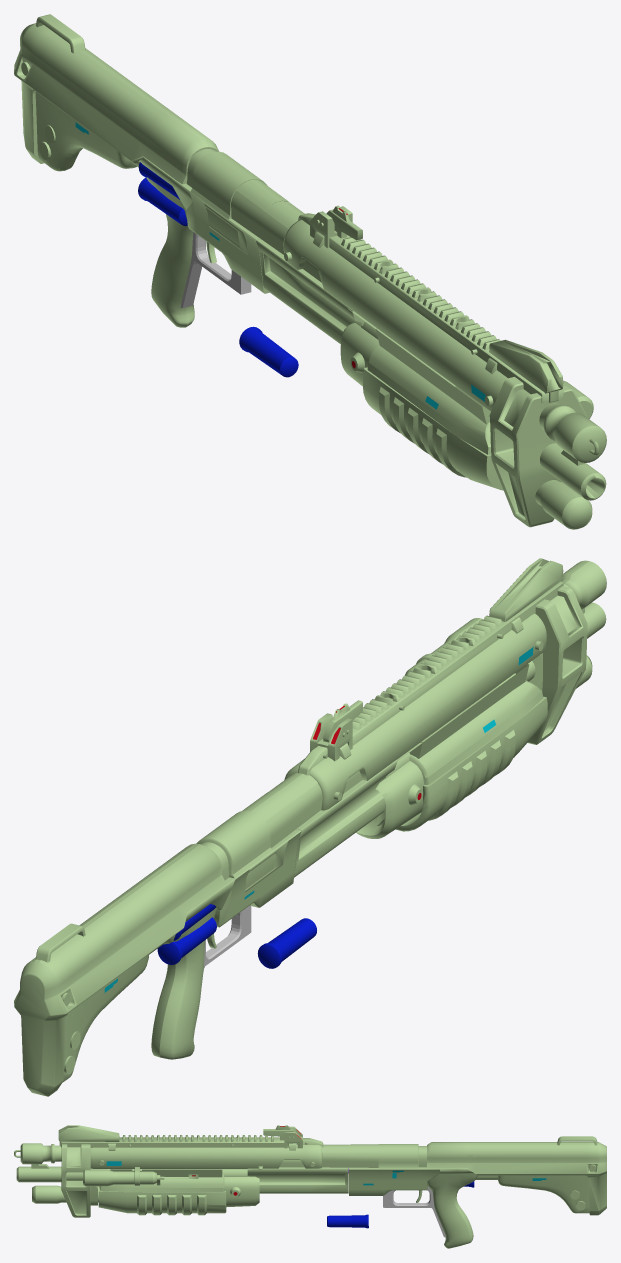
Rendered from M45_Rigged_1stP.fbx.
3 views of the same model, one above another, from view 1: azimuth 30°, elevation 25°; view 2: azimuth 150°, elevation 25°; view 3: azimuth 270°, elevation 25° (orthographic). The views are drawn at different scales.
Visible parts, largest first — view 1: MainBody, Pump, TriggerGuard, Shell1, Shell3; view 2: MainBody, Pump, Shell1, Shell3, TriggerGuard; view 3: MainBody, Pump, TriggerGuard, Shell1.
Boxes of the visible parts, x1,y1,x2,y2 form: MainBody: (14, 14, 606, 529); Pump: (340, 323, 593, 490); TriggerGuard: (180, 232, 251, 308); Shell1: (239, 326, 298, 377); Shell3: (138, 177, 187, 226); MainBody: (14, 558, 606, 1096); Pump: (356, 618, 547, 838); Shell1: (257, 918, 316, 968); Shell3: (157, 917, 216, 964); TriggerGuard: (203, 905, 251, 971); MainBody: (14, 1125, 606, 1248); Pump: (83, 1167, 259, 1215); TriggerGuard: (383, 1186, 445, 1237); Shell1: (327, 1214, 368, 1228).
Bounding box in the file's own units: 8.85 × 19.58 × 86.27.
